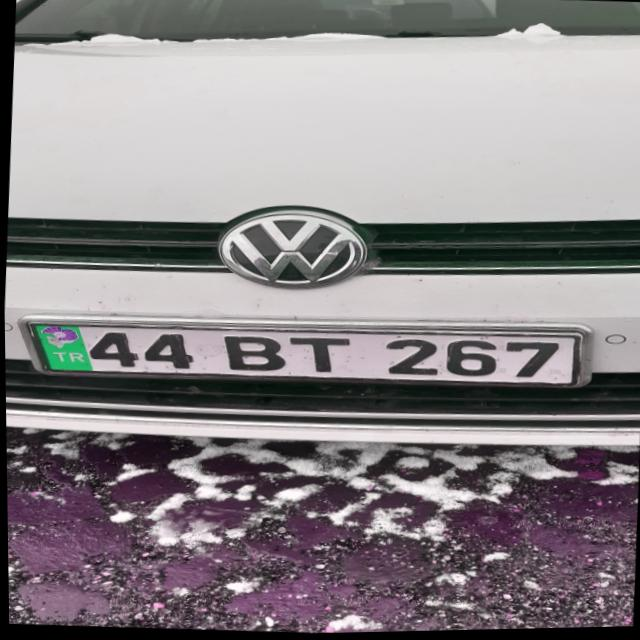license_plate: (28, 308, 584, 400)
